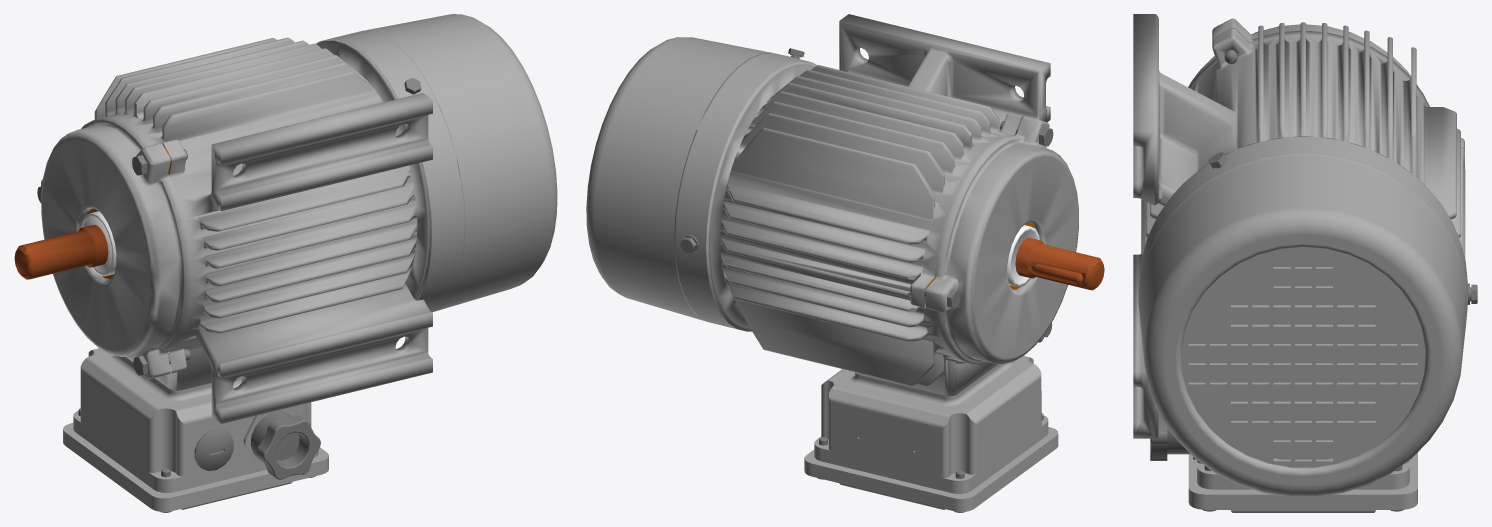
File: electric motor.fbx
3 renders of one model, left to right at view 1: azimuth 30°, elevation 25°; view 2: azimuth 150°, elevation 25°; view 3: azimuth 270°, elevation 25°, orthographic. The views are drawn at different scales.
Parts seen in each view (by area): view 1: Object.260, Object.810, Object.256, Object.127, Object.808, Object.099, Object.213, Object.1279, Object.231, Circle.001; view 2: Object.260, Object.810, Object.256, Object.127, Object.808, Object.099, Object.1279, Circle.001; view 3: Object.810, Object.260, Object.808, Object.099, Object.256, Object.127, Object.213.
Boxes of the visible parts, box(x1,y1,x2,y2) form: Object.260: box(94, 37, 432, 423); Object.810: box(365, 14, 557, 311); Object.256: box(41, 117, 192, 379); Object.127: box(73, 348, 318, 492); Object.808: box(331, 30, 465, 312); Object.099: box(63, 423, 328, 511); Object.213: box(250, 411, 320, 479); Object.1279: box(14, 224, 108, 279); Object.231: box(194, 428, 233, 470); Circle.001: box(82, 211, 116, 276); Object.260: box(706, 14, 1050, 396); Object.810: box(586, 37, 770, 320); Object.256: box(926, 116, 1078, 364); Object.127: box(814, 356, 1048, 493); Object.808: box(674, 52, 808, 328); Object.099: box(804, 427, 1058, 511); Object.1279: box(1015, 237, 1104, 290); Circle.001: box(1007, 225, 1039, 287); Object.810: box(1139, 155, 1467, 496); Object.260: box(1133, 14, 1466, 438); Object.808: box(1138, 137, 1467, 326); Object.099: box(1188, 452, 1417, 512); Object.256: box(1188, 18, 1464, 151); Object.127: box(1193, 457, 1409, 489); Object.213: box(1150, 413, 1190, 460).
Bounding box in the file's own units: 291 × 225 × 162.
